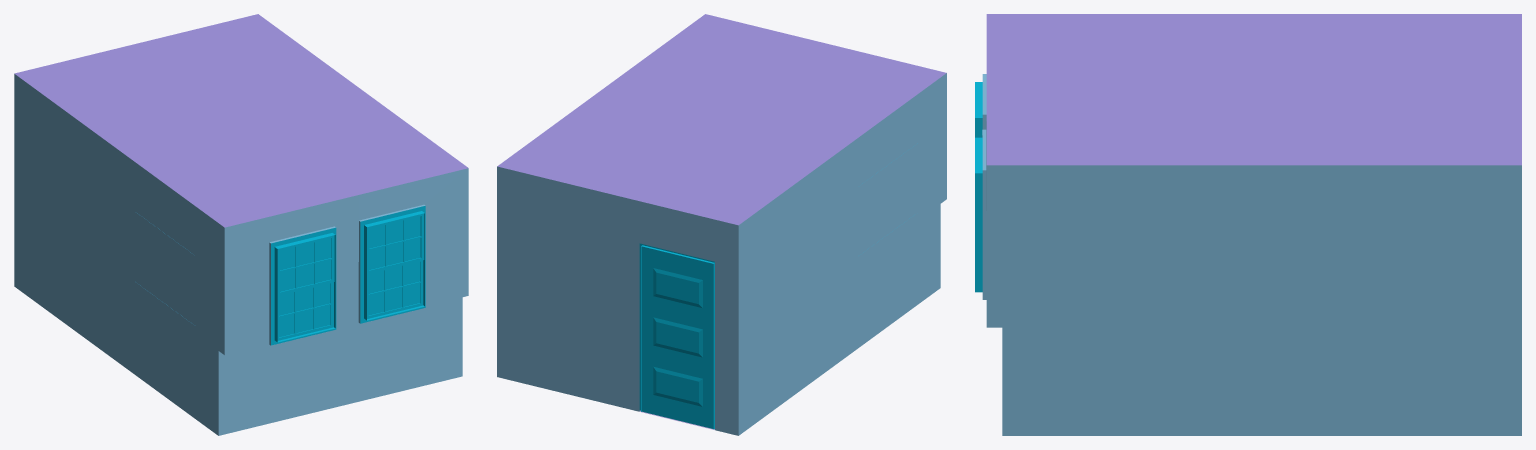
The model's file is basecamp.fbx.
3 views of the same model, side by side, from view 1: azimuth 30°, elevation 25°; view 2: azimuth 150°, elevation 25°; view 3: azimuth 270°, elevation 25° (orthographic). The views are drawn at different scales.
Parts seen in each view (by area): view 1: wall, roof, window, window.001; view 2: wall, roof, door, door frame; view 3: wall, roof, window.
Boxes of the visible parts, x1,y1,x2,y2 form: wall: [14, 74, 468, 435]; roof: [14, 14, 468, 227]; window: [360, 206, 425, 323]; window.001: [271, 227, 336, 345]; wall: [497, 73, 946, 435]; roof: [497, 14, 946, 225]; door: [641, 246, 713, 428]; door frame: [639, 243, 714, 429]; wall: [982, 74, 1521, 435]; roof: [986, 14, 1521, 165]; window: [975, 137, 982, 292].
Size of the model in its own units: 3 by 2.5 by 4.58.
